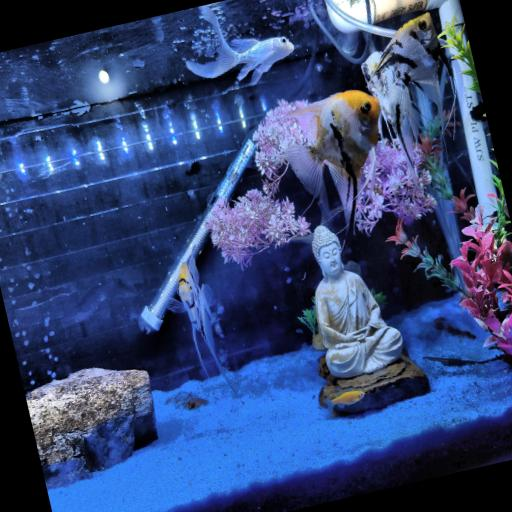Fish: (362, 13, 449, 166), (285, 90, 380, 227), (168, 255, 235, 392), (187, 5, 294, 84), (324, 391, 365, 413)
